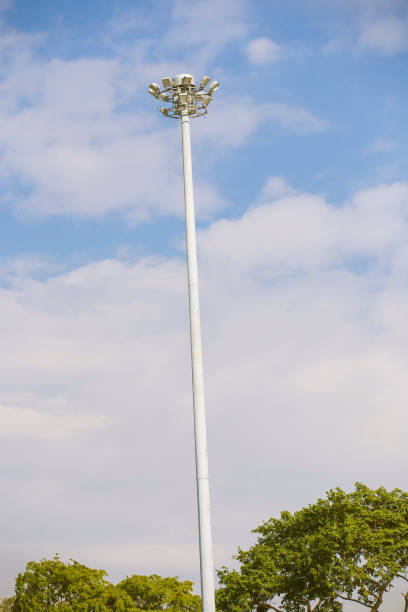light_pole: (178, 115, 216, 612)
